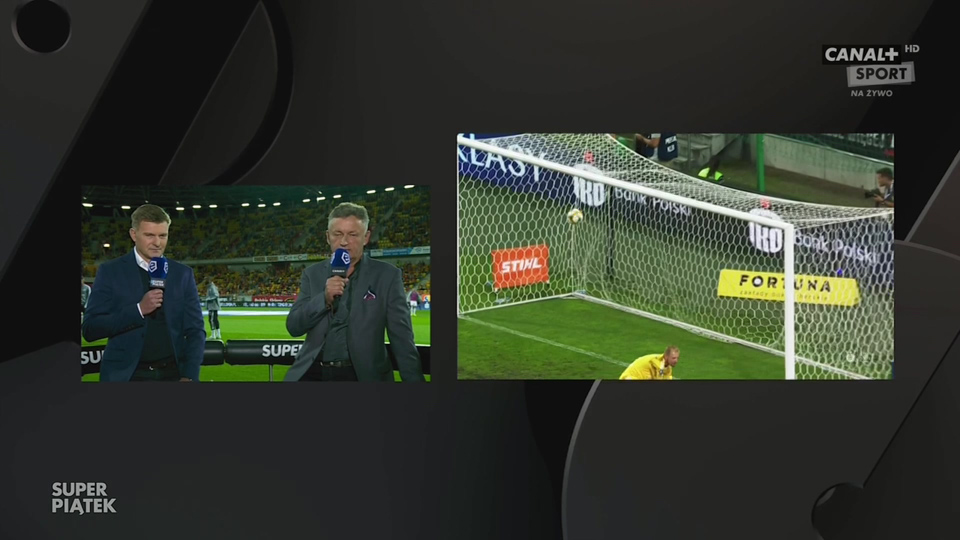pko: (743, 197, 786, 255), (568, 148, 609, 207)
